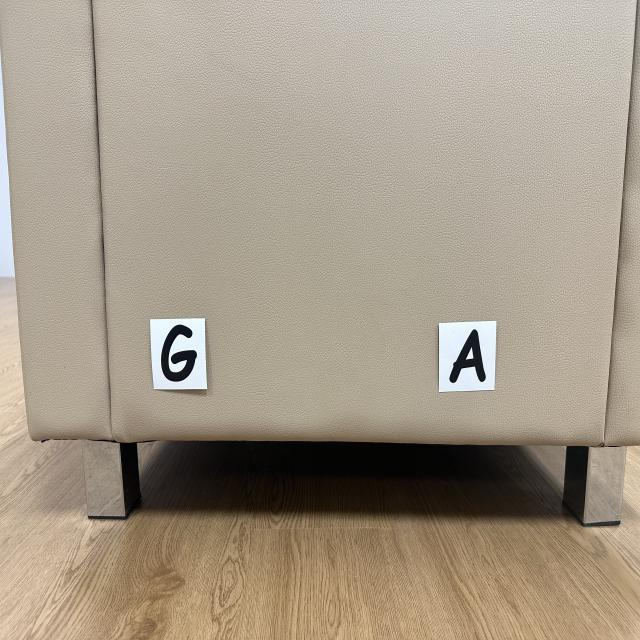A: (450, 330, 486, 383)
G: (161, 325, 196, 382)
